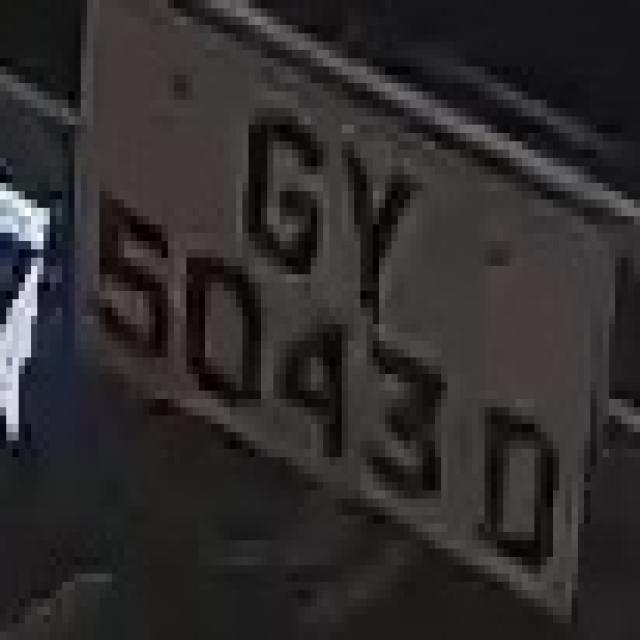0: (180, 216, 267, 441)
3: (361, 307, 442, 532)
4: (261, 266, 360, 482)
5: (81, 158, 168, 374)
D: (466, 374, 572, 574)
G: (236, 91, 329, 291)
Y: (323, 116, 423, 324)
